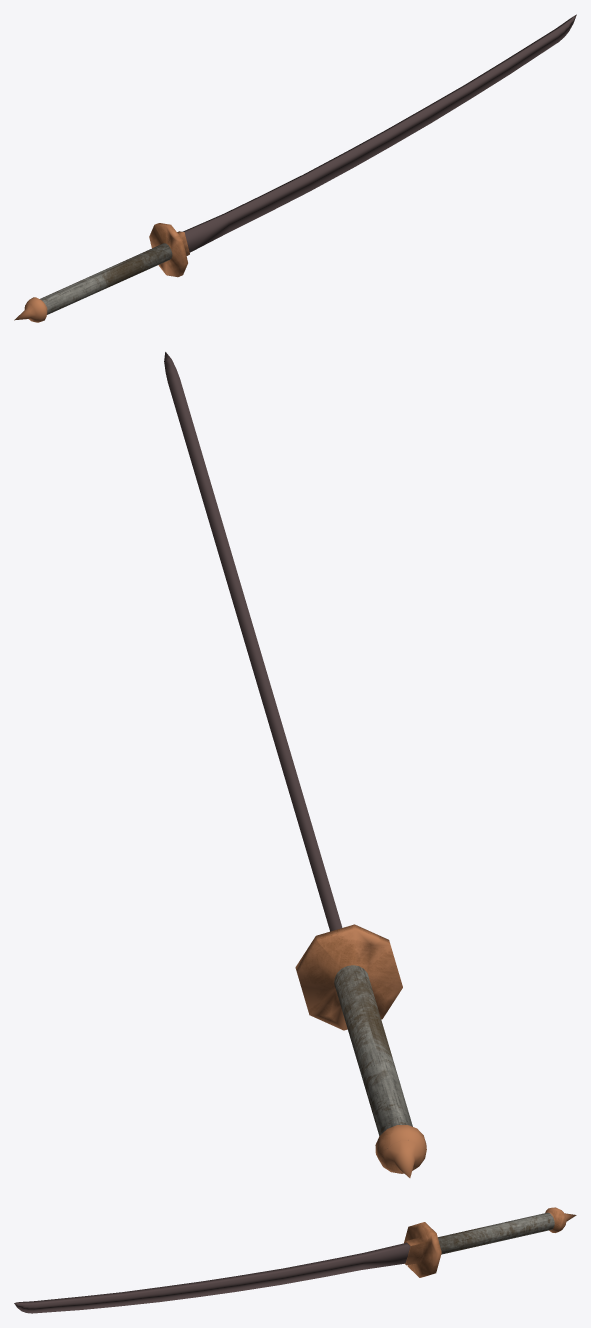
File: Anim_idle_katana_objetos.0050.obj
The picture shows the model from 3 angles, top to bottom: view 1: azimuth 90°, elevation 25°; view 2: azimuth 150°, elevation 25°; view 3: azimuth 270°, elevation 25°; orthographic projection. The views are drawn at different scales.
Parts seen in each view (by area): view 1: Katana1; view 2: Katana1; view 3: Katana1.
Part boxes in pixels (x1,y1,x2,y2): Katana1: [14, 14, 576, 322]; Katana1: [164, 352, 426, 1177]; Katana1: [14, 1207, 576, 1313].
Bounding box in the file's own units: 3.37 × 0.9411 × 4.07.
